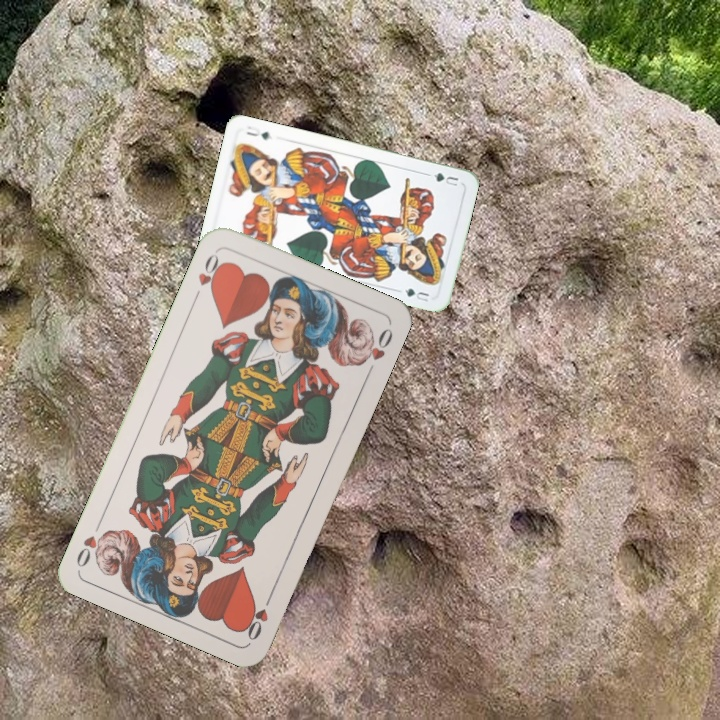GU: (430, 169, 461, 189)
HO: (189, 247, 227, 304), (241, 587, 276, 644)
